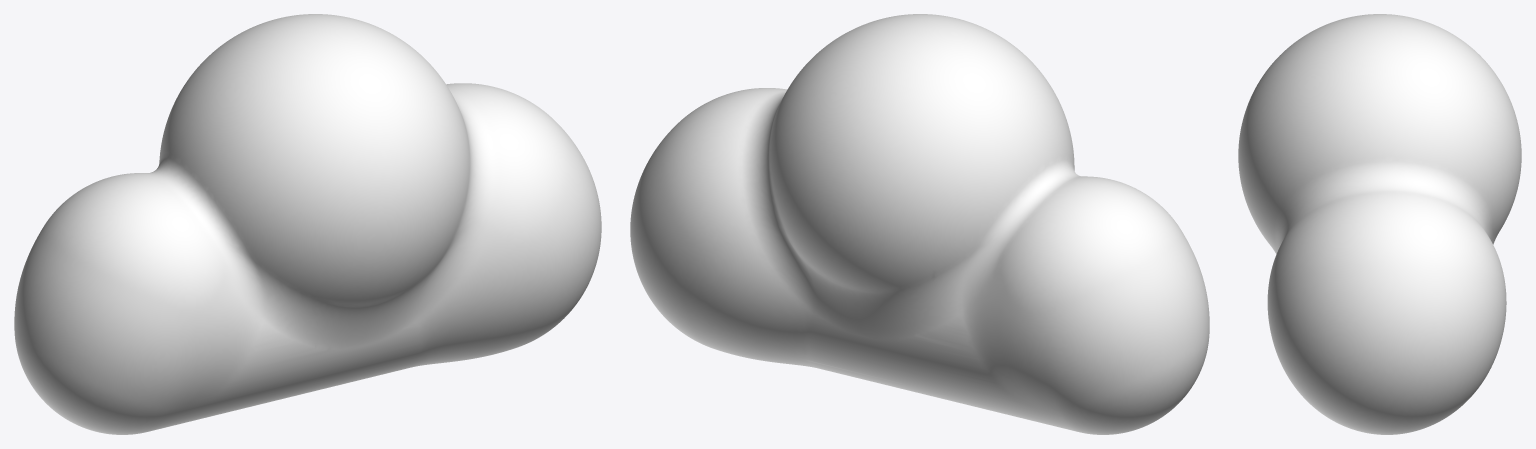
Rendered from cloud.gltf.
3 renders of one model, left to right at view 1: azimuth 30°, elevation 25°; view 2: azimuth 150°, elevation 25°; view 3: azimuth 270°, elevation 25°, orthographic. The views are drawn at different scales.
Visible parts, largest first — view 1: Area (3); view 2: Area (3); view 3: Area (3).
Part boxes in pixels (x1,y1,x2,y2): Area (3): (14, 14, 601, 434); Area (3): (630, 14, 1209, 434); Area (3): (1238, 14, 1521, 434).
Bounding box in the file's own units: 244 × 150 × 119.
1 material, 1 textured.
